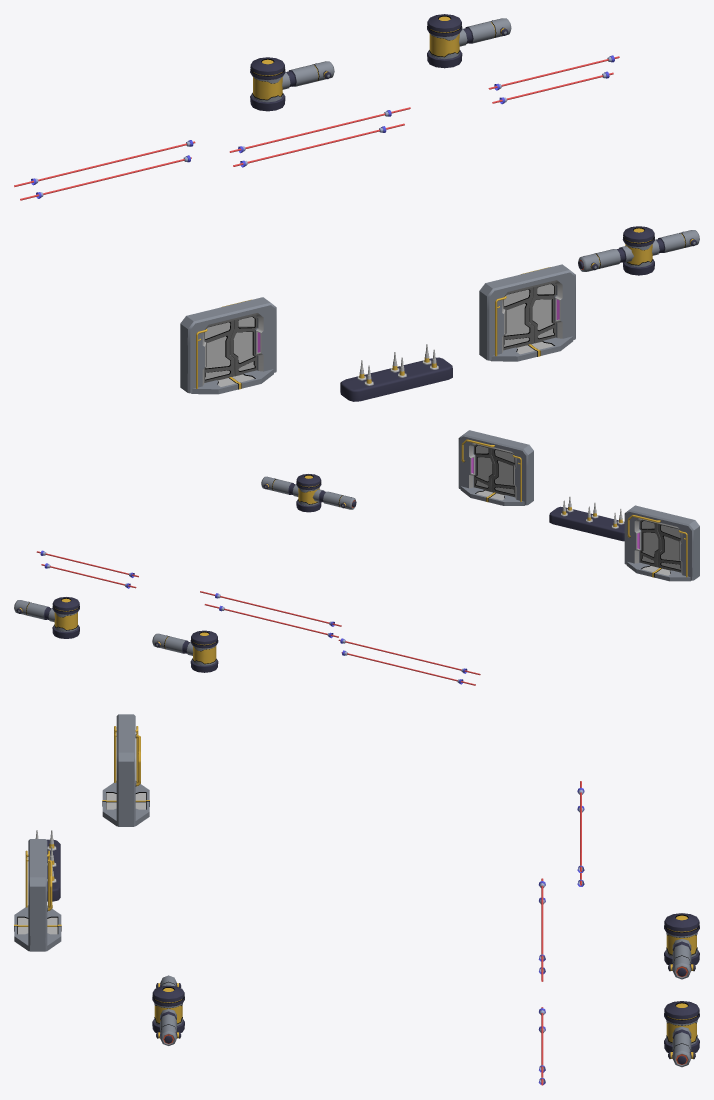
3 renders of one model, top to bottom at view 1: azimuth 30°, elevation 25°; view 2: azimuth 150°, elevation 25°; view 3: azimuth 270°, elevation 25°, orthographic. The views are drawn at different scales.
Parts seen in each view (by area): view 1: Base (×3), pCylinder13 (×3), pCylinder14 (×4), Right (×2), Left (×2), Base5 (×2); view 2: Base (×3), pCylinder13 (×3), pCylinder14 (×4), Right (×2), Left (×2), Base5 (×2); view 3: Base (×2), pCylinder13 (×3), Base5 (×2), pCylinder14 (×3).
Boxes of the visible parts, x1=… form: Base (×3): x1=180, y1=264, x2=575, y2=401; pCylinder13 (×3): x1=250, y1=14, x2=654, y2=275; pCylinder14 (×4): x1=282, y1=18, x2=699, y2=271; Right (×2): x1=204, y1=287, x2=533, y2=382; Left (×2): x1=230, y1=282, x2=556, y2=376; Base5 (×2): x1=191, y1=336, x2=573, y2=394; Base (×3): x1=458, y1=430, x2=699, y2=580; pCylinder13 (×3): x1=52, y1=474, x2=321, y2=672; pCylinder14 (×4): x1=14, y1=476, x2=356, y2=655; Right (×2): x1=491, y1=448, x2=681, y2=572; Left (×2): x1=474, y1=444, x2=661, y2=567; Base5 (×2): x1=460, y1=486, x2=691, y2=581; Base (×2): x1=28, y1=714, x2=135, y2=951; pCylinder13 (×3): x1=152, y1=913, x2=699, y2=1052; Base5 (×2): x1=14, y1=781, x2=149, y2=951; pCylinder14 (×3): x1=160, y1=939, x2=691, y2=1067.
Bounding box in the file's own units: 393 × 48.31 × 359.
